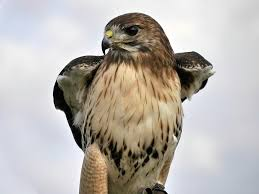nontarget: (48, 4, 217, 194)
